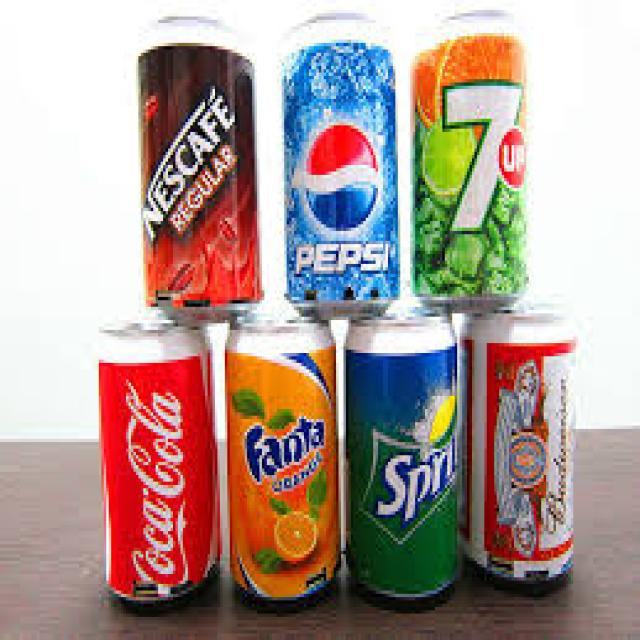metal: (136, 14, 262, 314), (91, 323, 220, 604), (279, 17, 398, 310), (220, 313, 338, 604), (341, 314, 460, 601), (455, 304, 573, 591), (411, 10, 522, 307)
